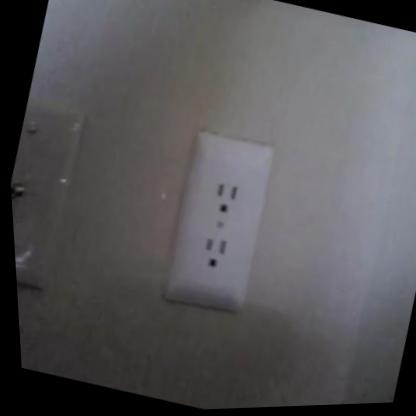OUTLET: (152, 125, 285, 314)
